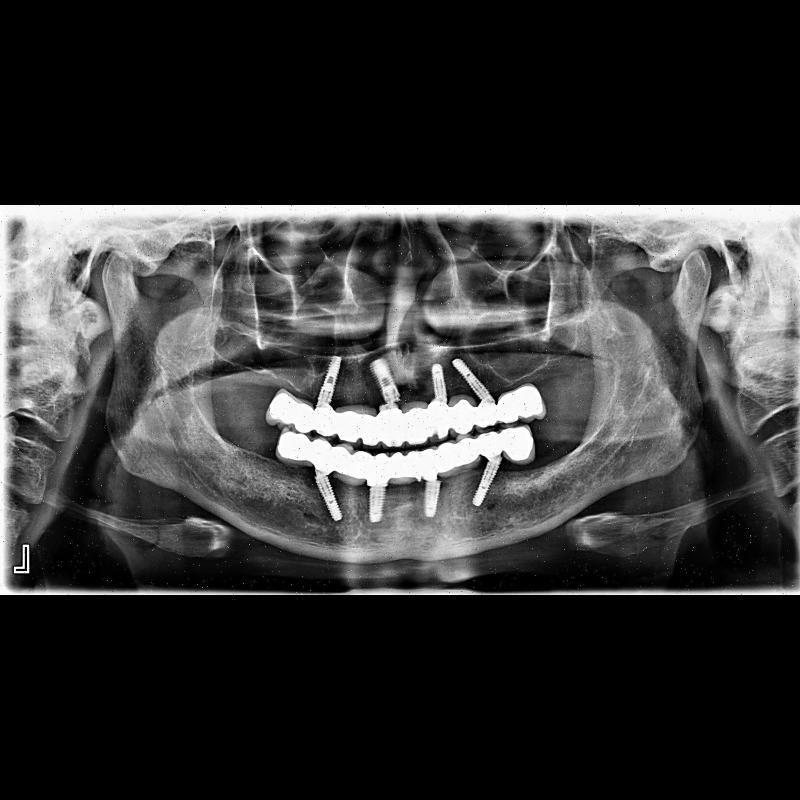osstem: (360, 352, 408, 406), (447, 353, 497, 403), (468, 456, 507, 520), (308, 355, 346, 405), (313, 475, 347, 527), (414, 478, 446, 522), (365, 482, 385, 534)
